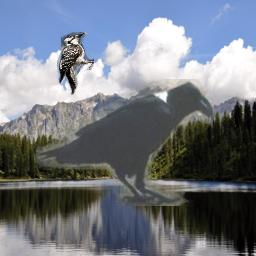Crow: (34, 79, 213, 206)
Woodpecker: (56, 31, 94, 95)
